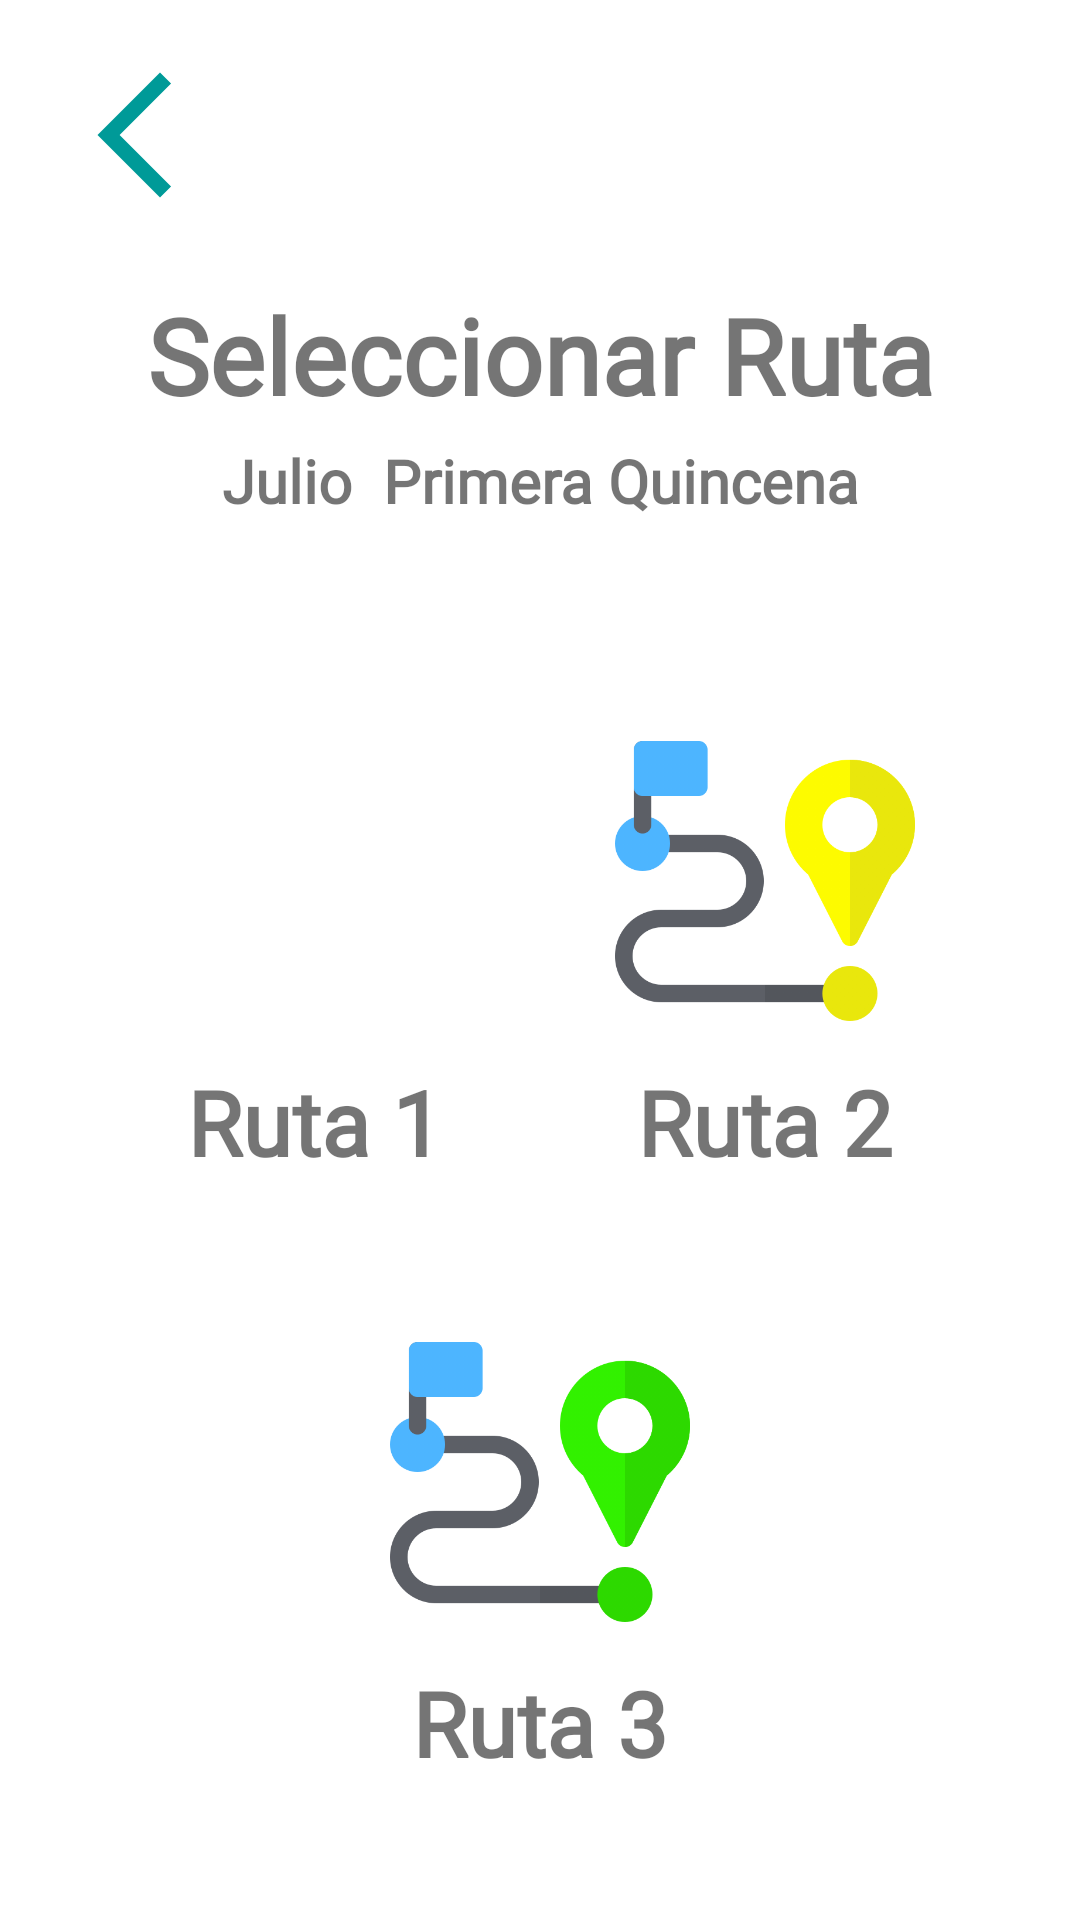

Locate icon controls on the screen. Image size 1080px x 1920px, boxes as (x1, y1, x2, y2).
arrow back: (97, 72, 171, 198)
